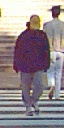person: (14, 14, 51, 110)
